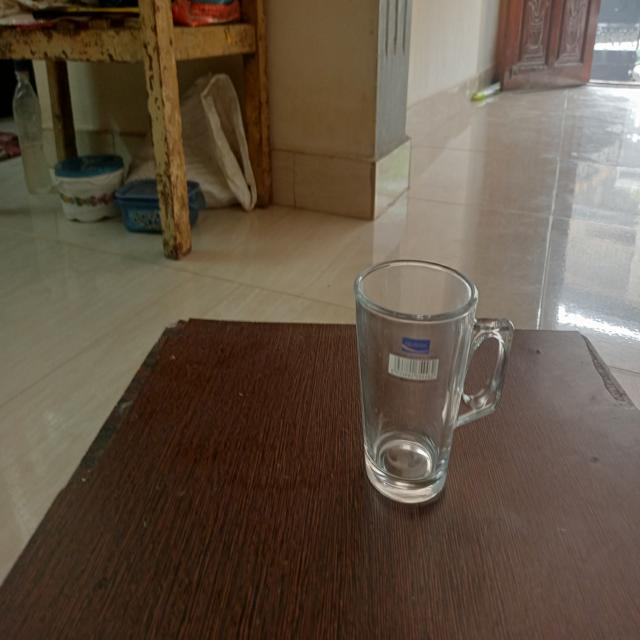glass-VX4N: (352, 254, 514, 492)
